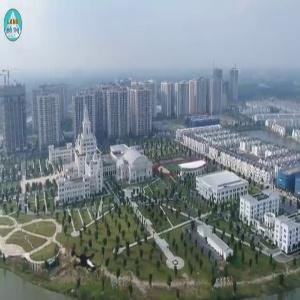drone: (49, 229, 118, 298)
